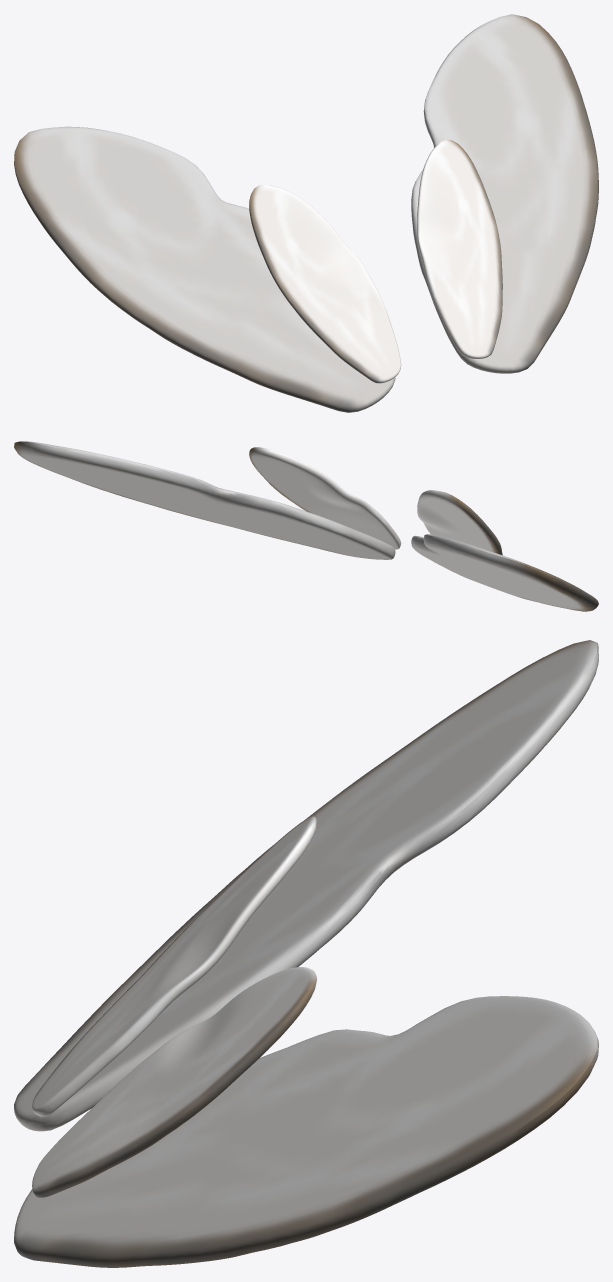
The model's file is BEE WINGS.fbx.
3 renders of one model, top to bottom at view 1: azimuth 30°, elevation 25°; view 2: azimuth 150°, elevation 25°; view 3: azimuth 270°, elevation 25°, orthographic. The views are drawn at different scales.
Visible parts, largest first — view 1: Object_7.001, Object_7.003; view 2: Object_7.003, Object_7.001; view 3: Object_7.003, Object_7.001.
Part boxes in pixels (x1,y1,x2,y2): Object_7.001: (14,126,401,412); Object_7.003: (411,14,598,373); Object_7.003: (14,441,401,559); Object_7.001: (411,490,598,611); Object_7.003: (14,967,598,1267); Object_7.001: (14,640,598,1131).
Bounding box in the file's own units: 61.45 × 21.33 × 33.3.
